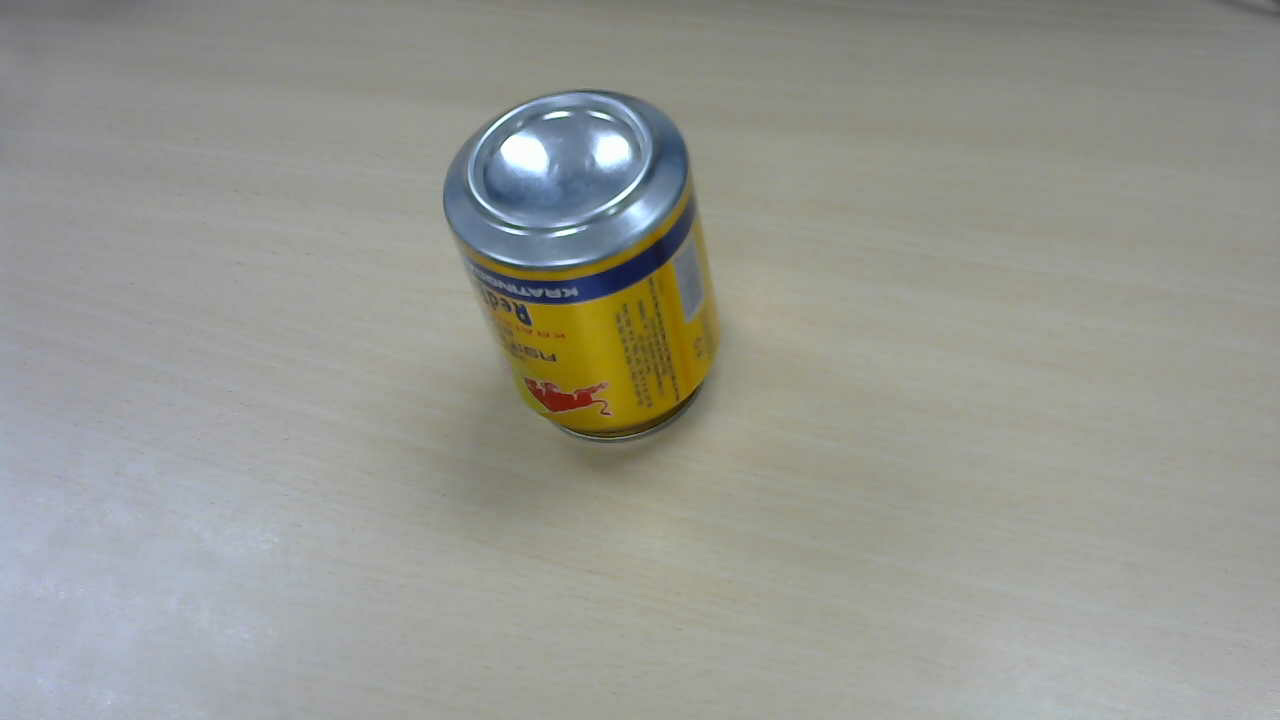Red_Bull: (448, 92, 725, 447)
